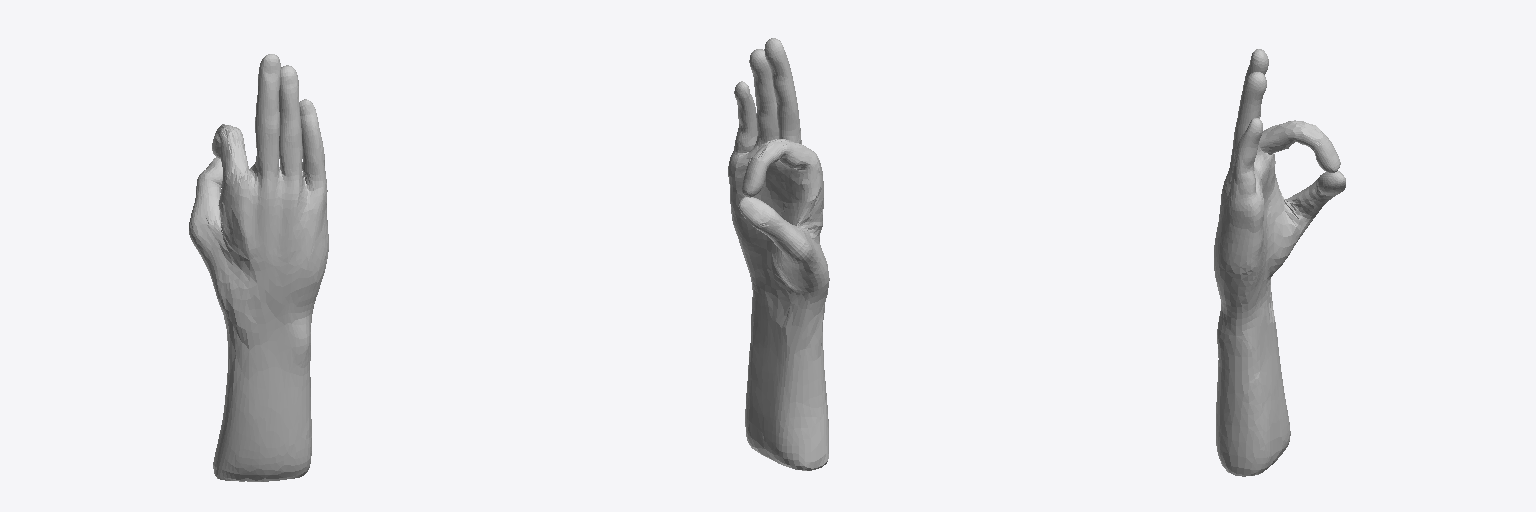
File: mainf.obj
3 renders of one model, left to right at view 1: azimuth 30°, elevation 25°; view 2: azimuth 150°, elevation 25°; view 3: azimuth 270°, elevation 25°, orthographic.
Parts seen in each view (by area): view 1: ZBrush_defualt_group; view 2: ZBrush_defualt_group; view 3: ZBrush_defualt_group.
Part boxes in pixels (left/top/right/bottom): ZBrush_defualt_group: left=189, top=54, right=328, bottom=481; ZBrush_defualt_group: left=728, top=38, right=829, bottom=470; ZBrush_defualt_group: left=1214, top=49, right=1345, bottom=476.
Bounding box in the file's own units: 2.64 × 9.92 × 2.86.